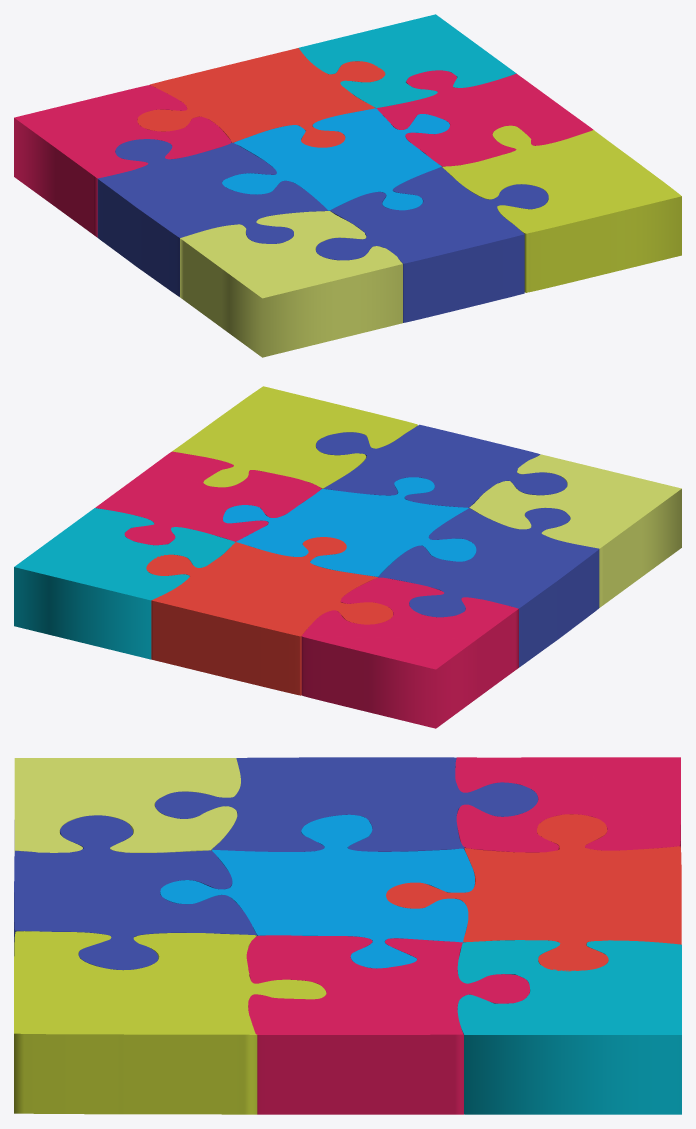
File: fittedPieces.fbx
3 renders of one model, top to bottom at view 1: azimuth 30°, elevation 25°; view 2: azimuth 150°, elevation 25°; view 3: azimuth 270°, elevation 25°, orthographic. The views are drawn at different scales.
Visible parts, largest first — view 1: path29, path80, path3927-0, path3787-1.001, path3832, path3737, path3815, path3871-7, path3858; view 2: path3737, path3832, path3858, path3787-1.001, path29, path80, path3815, path3927-0, path3871-7; view 3: path80, path3871-7, path3858, path3737, path3815, path3787-1.001, path3927-0, path29, path3832.
Part boxes in pixels (x1,y1,x2,y2): path29: (180,211,402,357); path80: (442,125,681,292); path3927-0: (316,167,548,322); path3787-1.001: (97,139,328,296); path3832: (14,85,231,237); path3737: (137,48,385,147); path3815: (222,108,449,210); path3871-7: (376,70,593,166); path3858: (299,14,516,108); path3737: (146,537,392,695); path3832: (301,577,518,728); path3858: (14,508,235,659); path3787-1.001: (378,508,599,667); path29: (469,454,681,607); path80: (172,386,417,488); path3815: (223,477,476,576); path3927-0: (316,424,567,507); path3871-7: (95,451,321,545); path80: (14,931,326,1114); path3871-7: (246,935,529,1114); path3858: (457,940,681,1114); path3737: (386,814,681,971); path3815: (160,814,474,968); path3787-1.001: (155,757,538,851); path3927-0: (14,815,256,970); path29: (14,758,240,852); path3832: (455,757,680,852).
Bounding box in the file's own units: 59.72 × 8 × 60.69.
